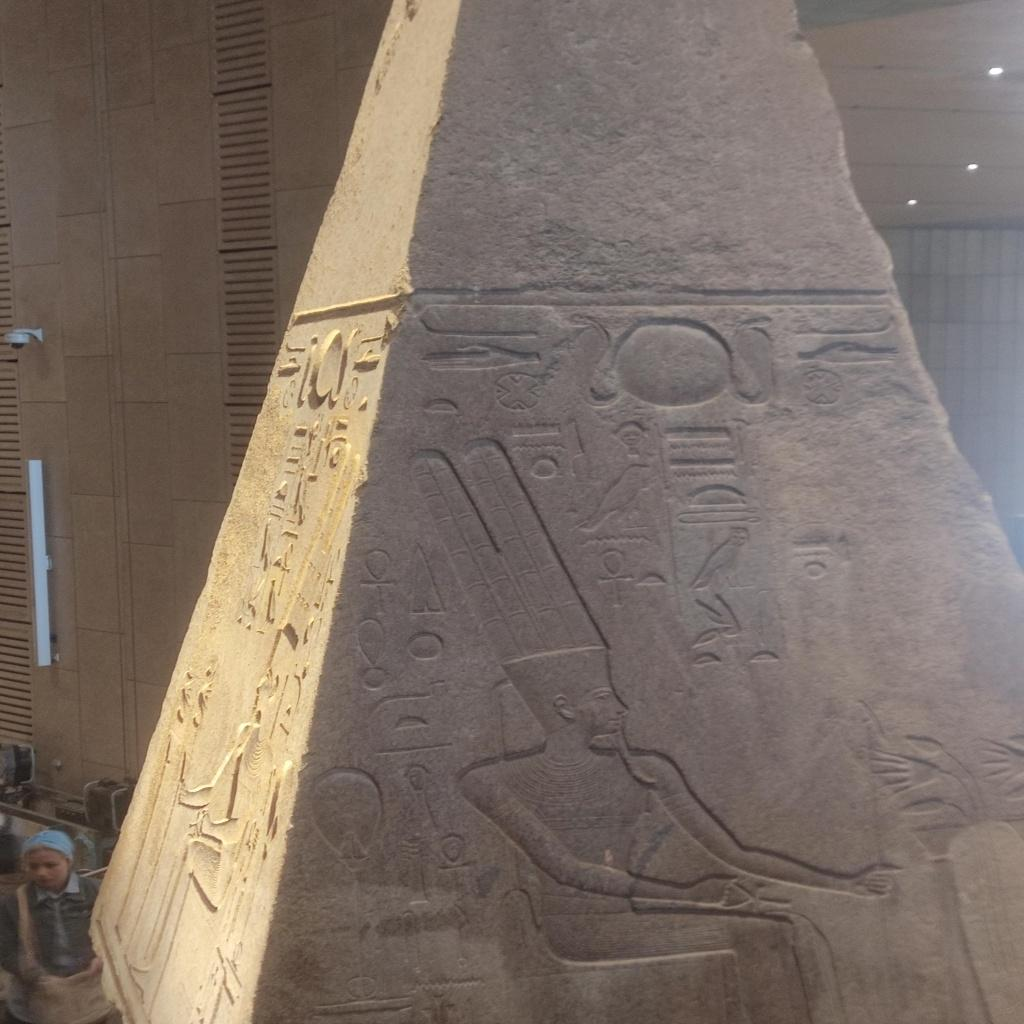Obelsik Tip of Hatshepsut: (92, 0, 1024, 1019)
